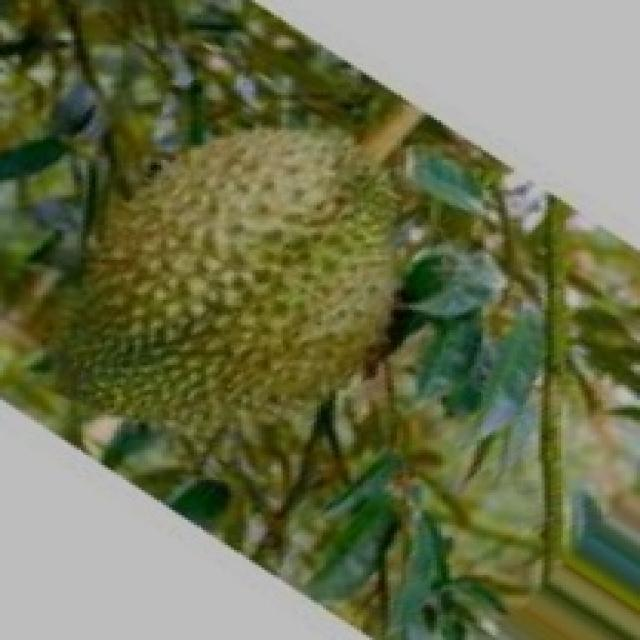fruit: (6, 90, 440, 515)
